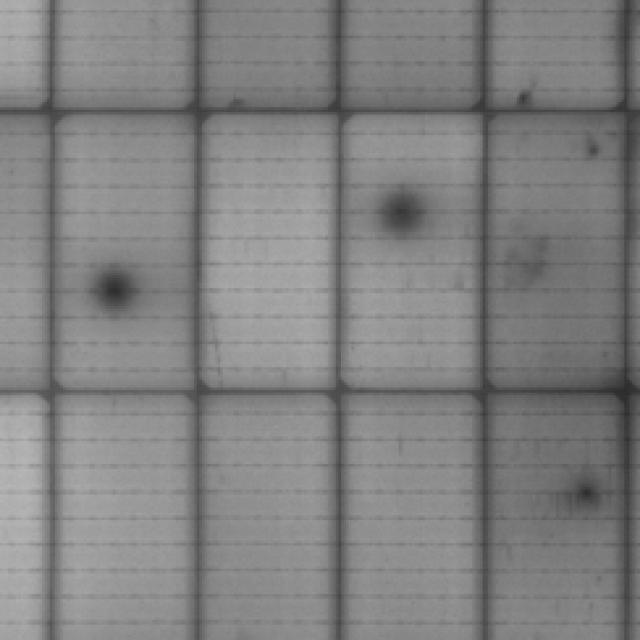BLACK SPOT: (88, 262, 139, 319), (386, 180, 422, 242), (575, 478, 601, 512)
